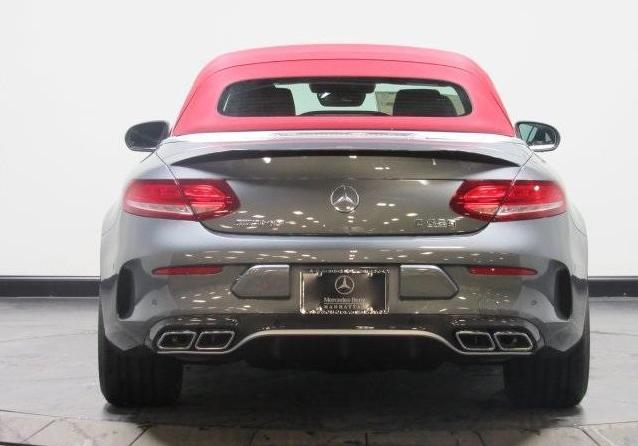C63AMG: (83, 32, 601, 422)
